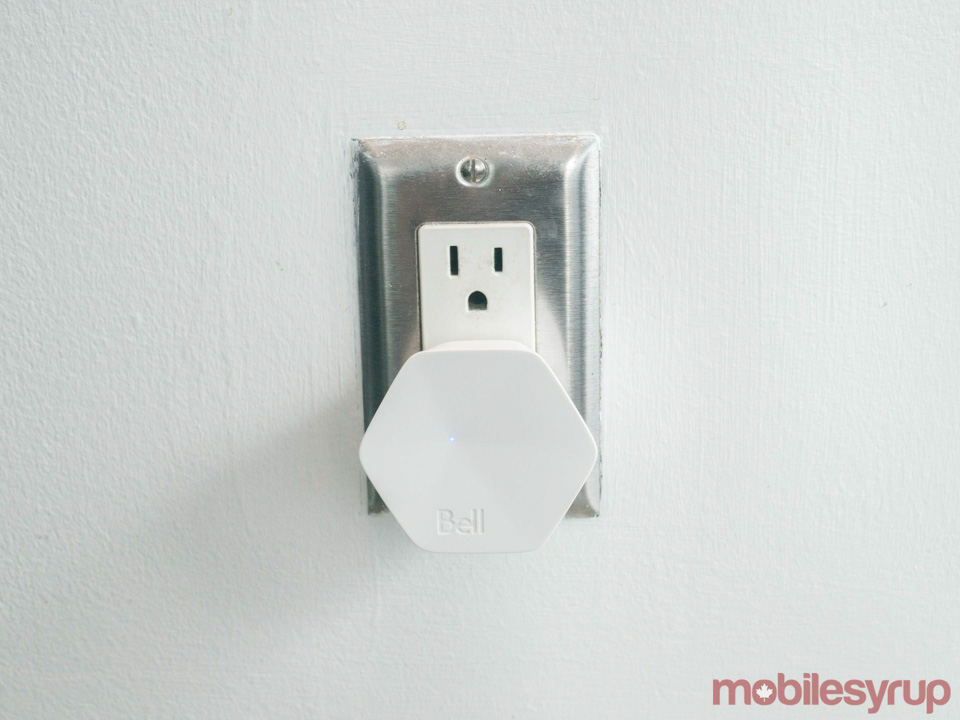pod: (353, 337, 602, 561)
